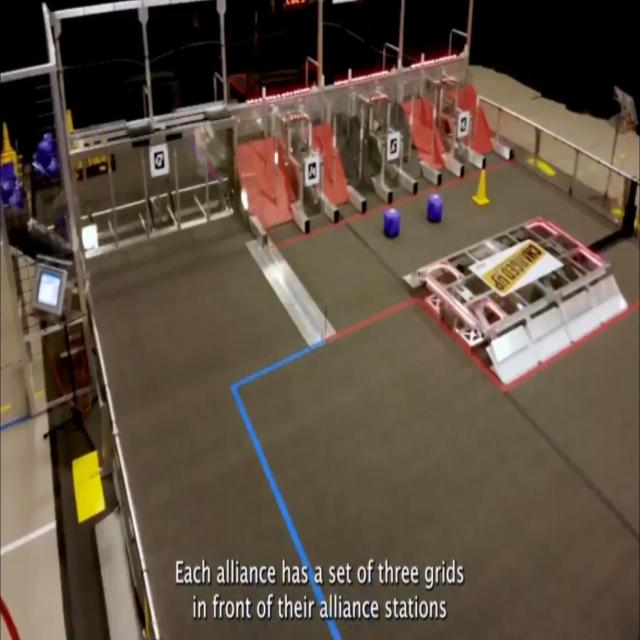frc_cone: (1, 120, 18, 163), (473, 168, 489, 206), (63, 105, 77, 140)
frc_cube: (427, 192, 442, 224), (384, 209, 401, 236), (38, 140, 52, 167), (1, 176, 16, 201), (31, 151, 45, 177), (46, 154, 60, 180), (9, 188, 23, 209), (0, 161, 16, 179), (42, 132, 54, 146)
